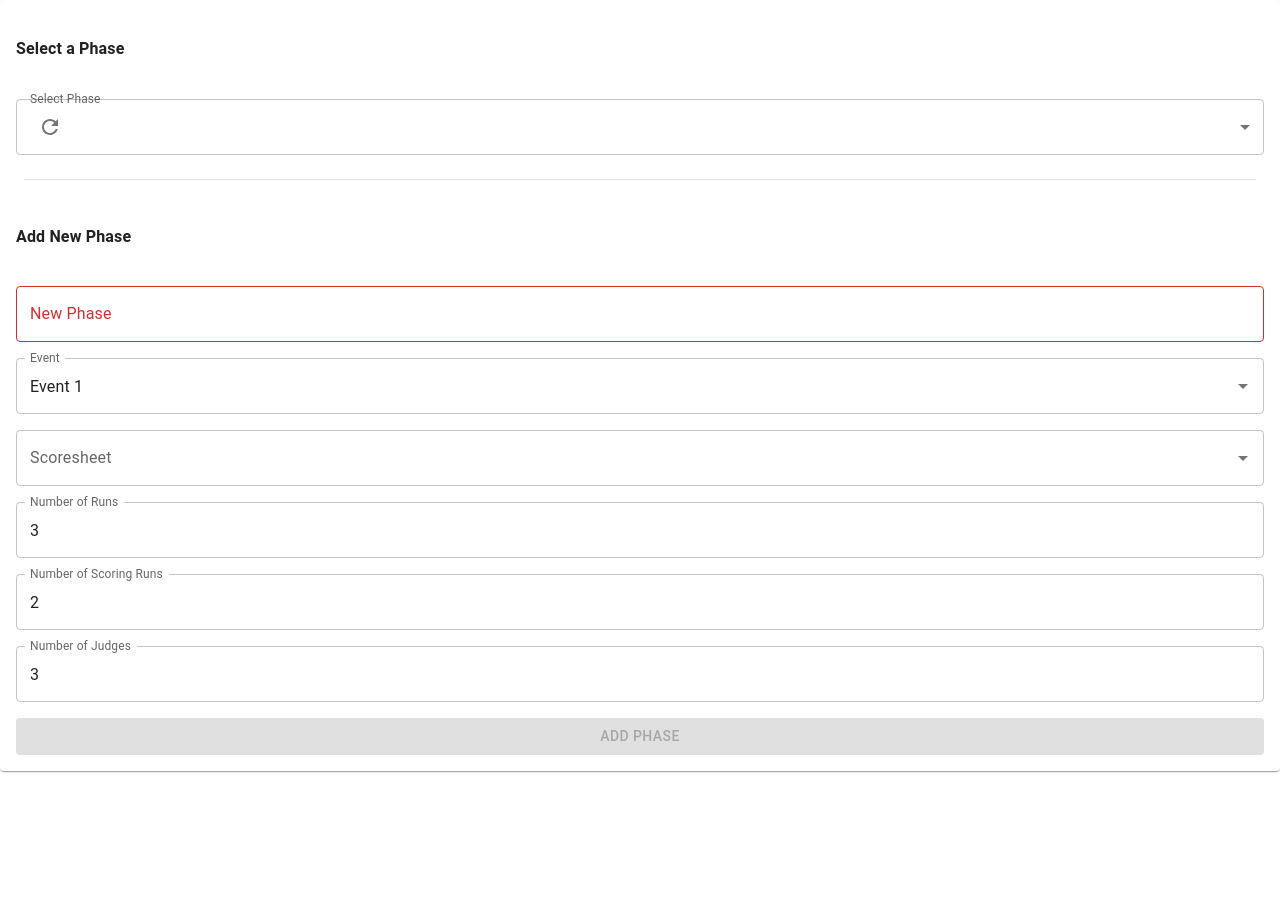
PhaseSelector › warns when scoring runs exceed total runs and clears the warning once fixed
The image size is (1280, 900).
Check: the heading "Add New Phase" is shown, box top-left (16, 227), bottom-right (131, 246)
Replace the text in the number field labelled "Number of Runs" with "9" at (640, 530), box top-left (16, 502), bottom-right (1264, 558)
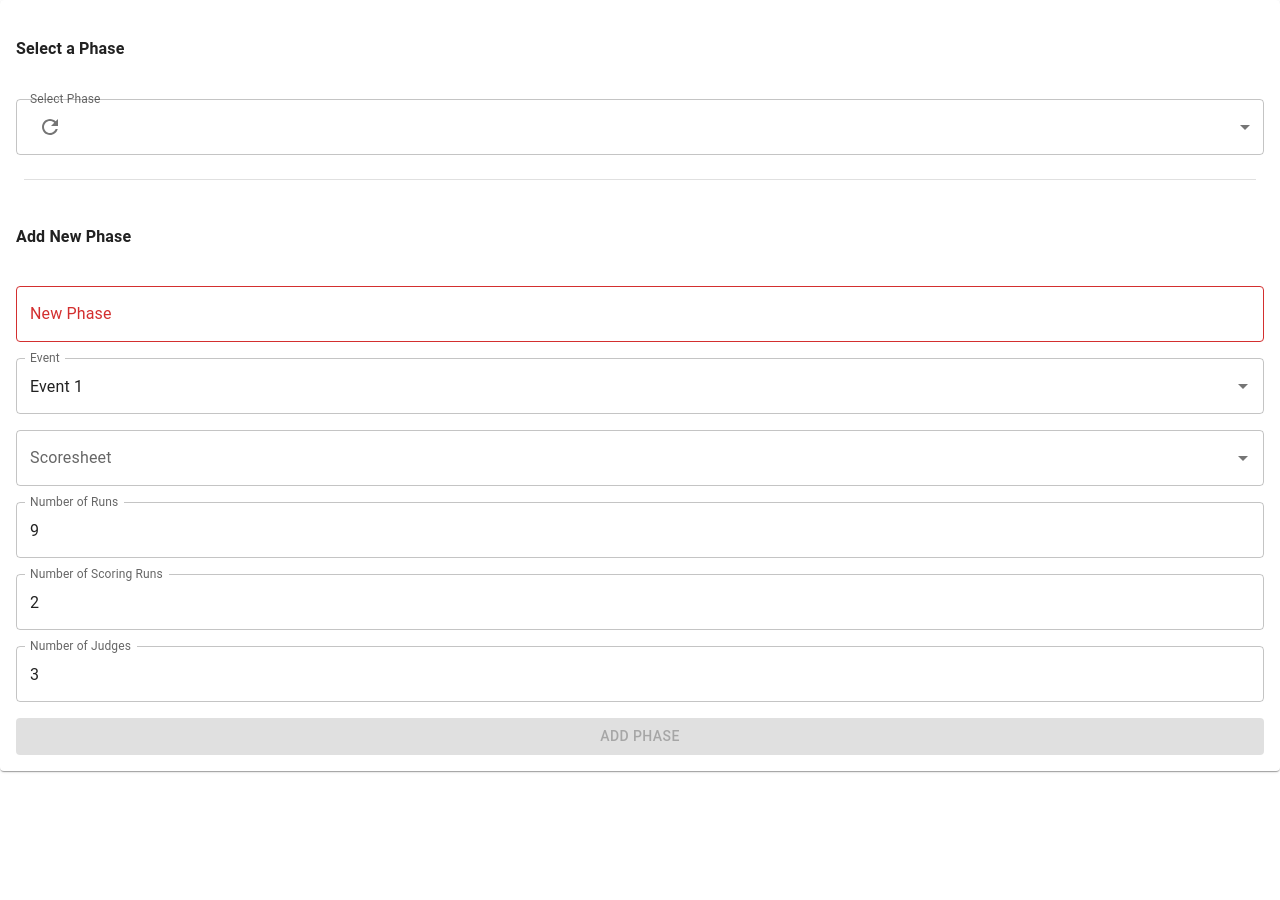
Replace the text in the number field labelled "Number of Scoring Runs" with "10" at (640, 602), box top-left (16, 574), bottom-right (1264, 630)
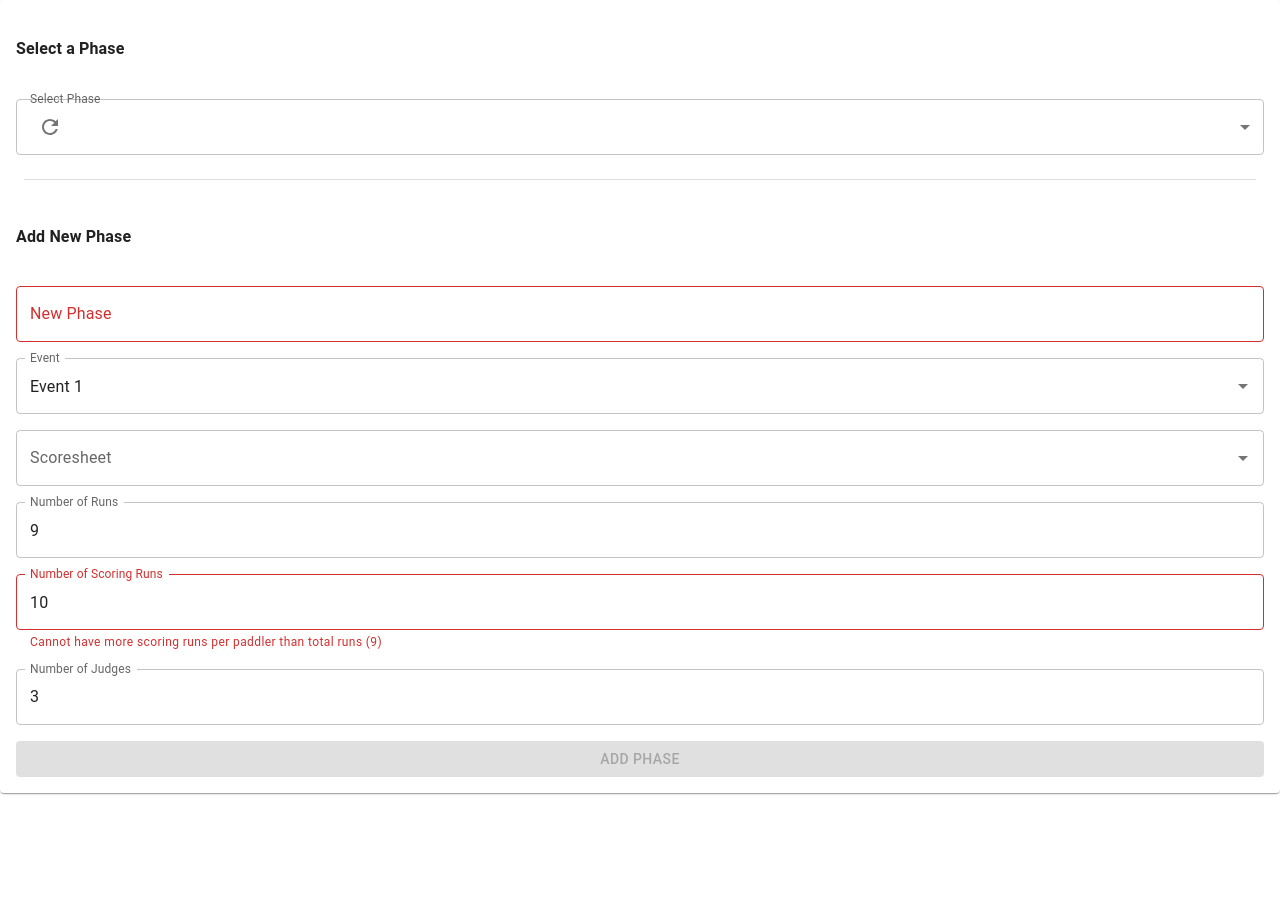
Check: the button "Add Phase" is disabled, box top-left (16, 741), bottom-right (1264, 778)
Check: the text "Cannot have more scoring runs per paddler than total runs (9)" is shown, box top-left (30, 635), bottom-right (382, 649)
Replace the text in the number field labelled "Number of Runs" with "10" at (640, 530), box top-left (16, 502), bottom-right (1264, 558)
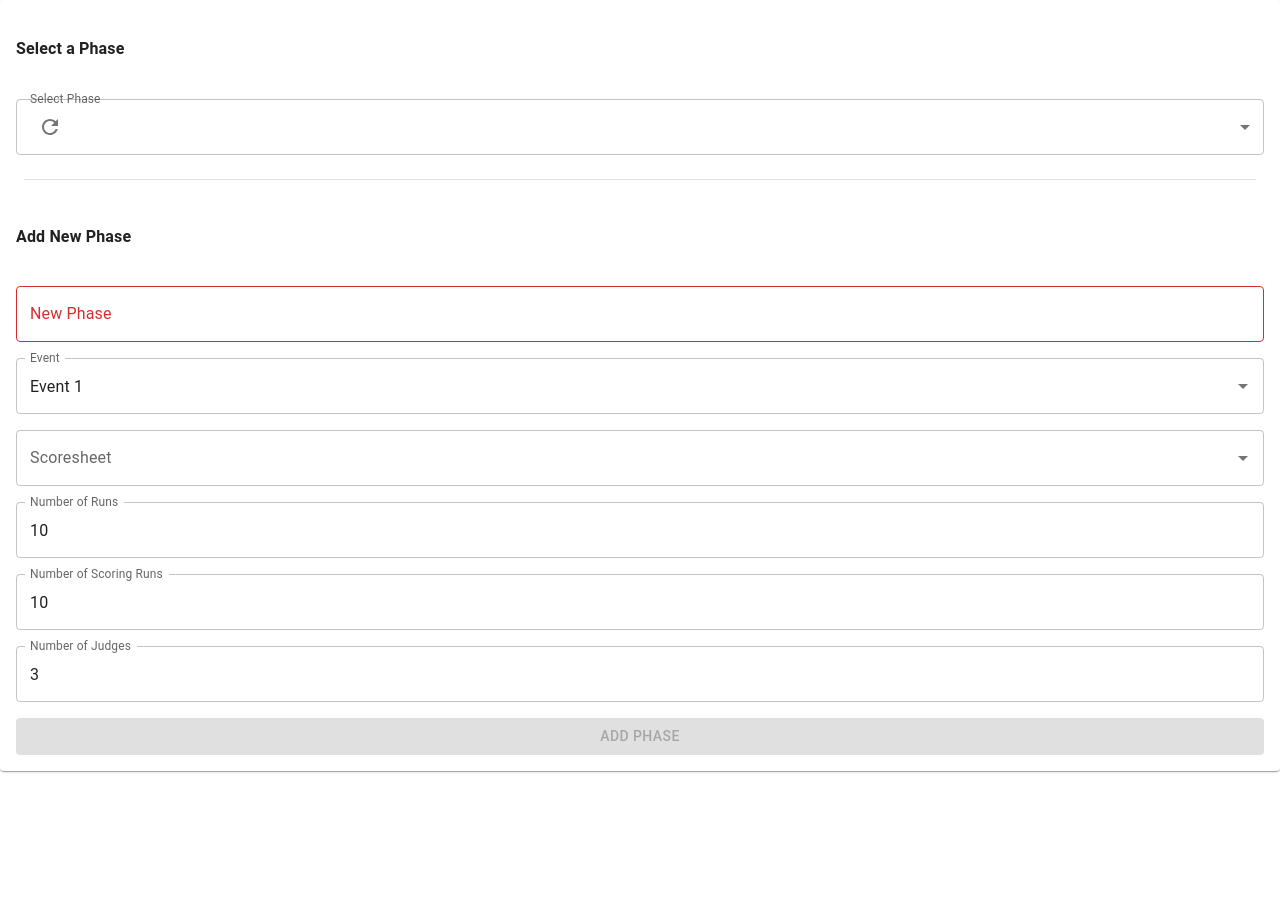
Check: the text "Cannot have more scoring runs per paddler than total runs (9)" is gone
